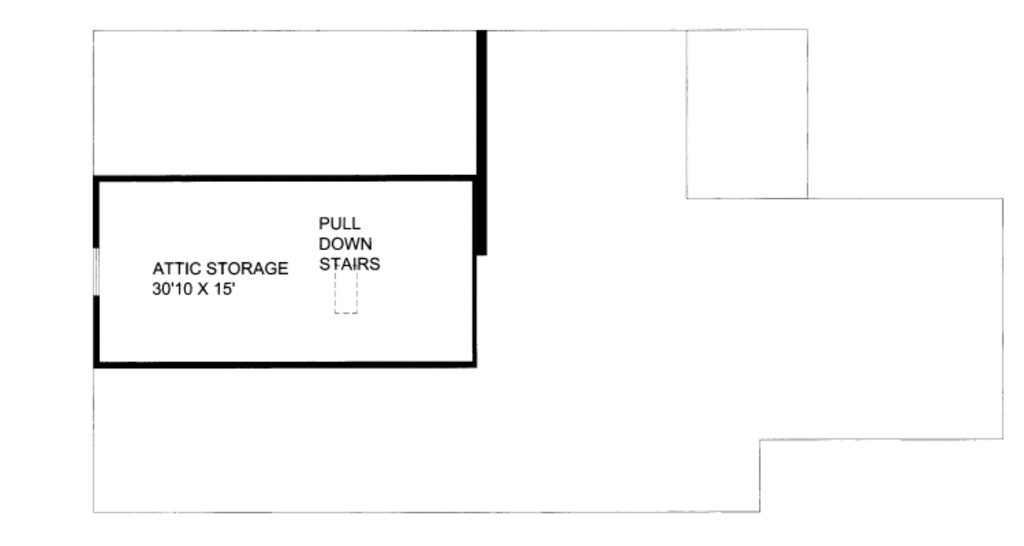window: (86, 245, 106, 298)
